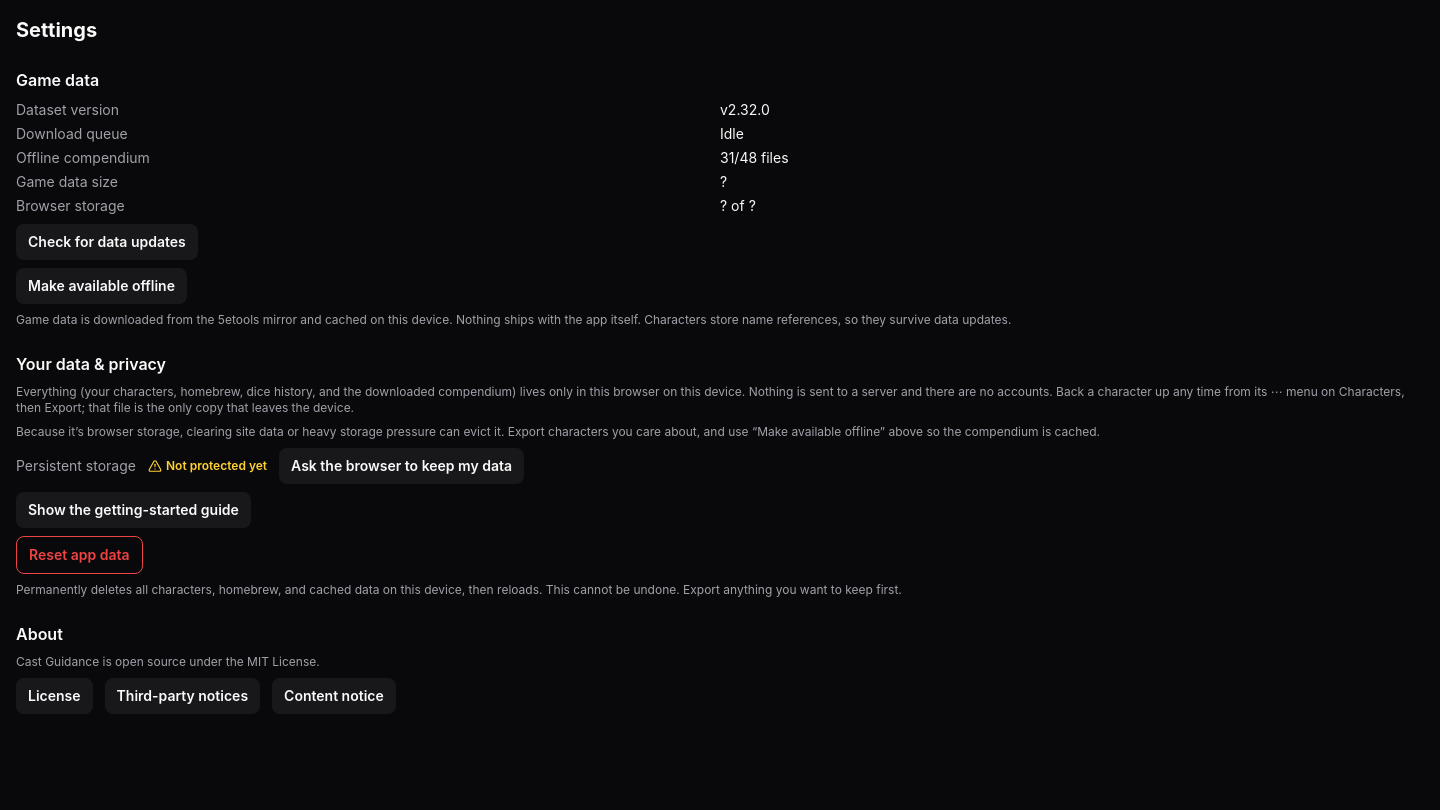
Test: SettingsPage data section › gives the incomplete offline compendium a control that completes it
Expected: the text "31/48 files" is shown, [720,149,788,166]
Click the button "Make available offline" at (102, 286), box [16,268,187,304]
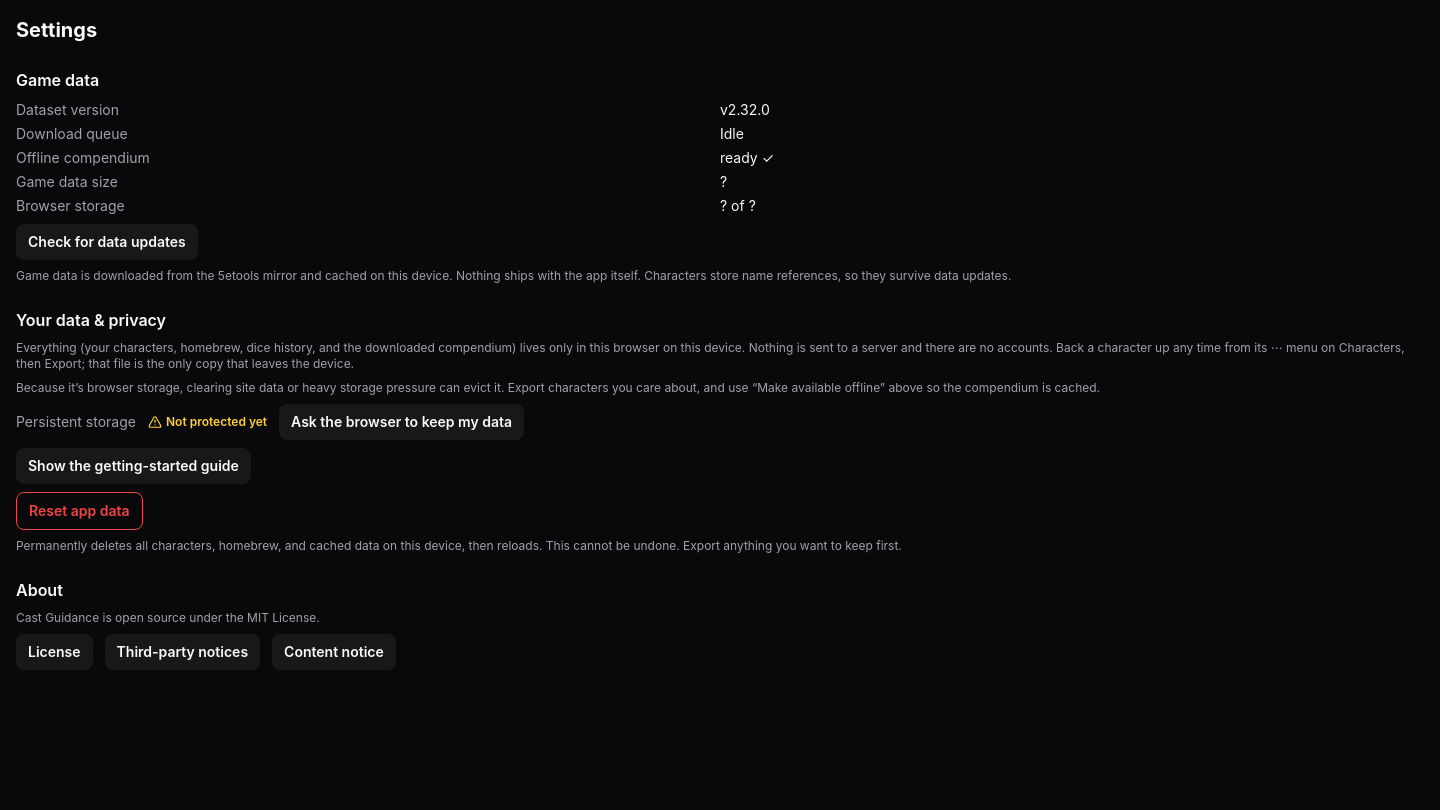
Now the text "31/48 files" is gone
Now the text "ready ✓" is shown, box [720,149,774,166]
